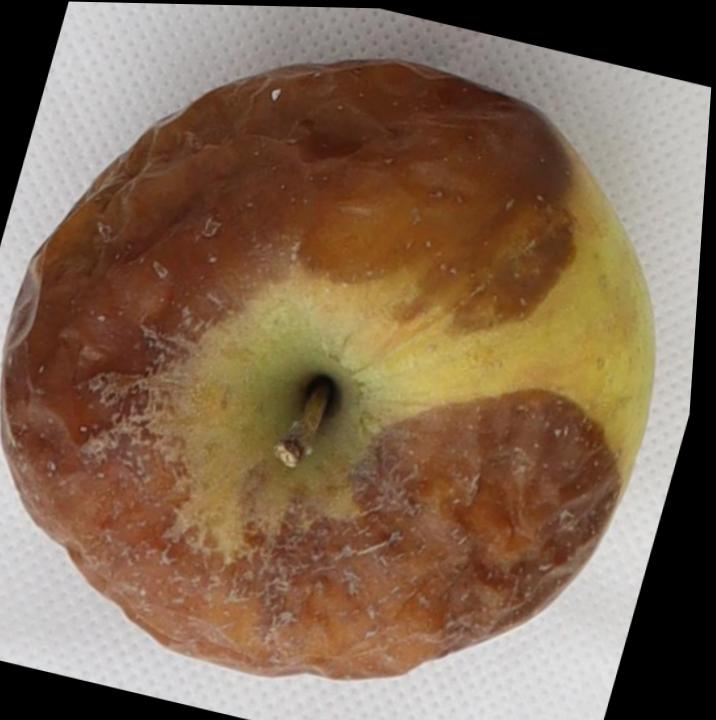apple: (4, 59, 653, 677)
rot_mold_decay: (7, 63, 618, 676)
